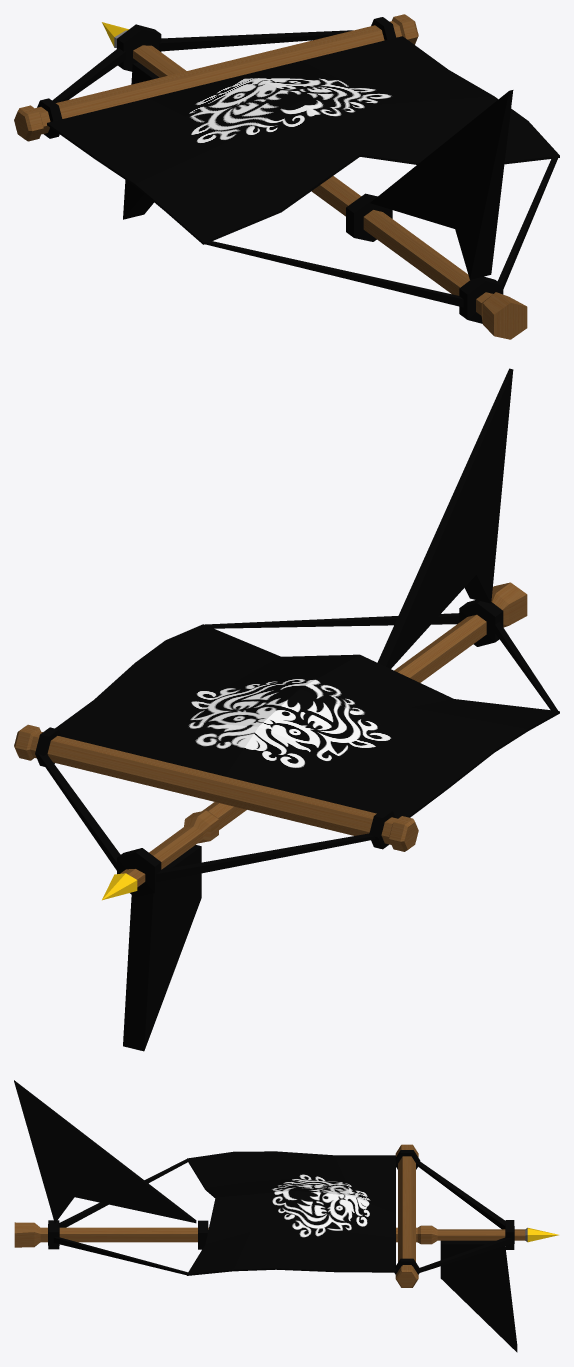
The model's file is sail_b_5.fbx.
3 views of the same model, one above another, from view 1: azimuth 30°, elevation 25°; view 2: azimuth 150°, elevation 25°; view 3: azimuth 270°, elevation 25° (orthographic). The views are drawn at different scales.
Visible parts, largest first — view 1: Cube.095; view 2: Cube.095; view 3: Cube.095.
Part boxes in pixels (x1,y1,x2,y2): Cube.095: [14, 14, 559, 339]; Cube.095: [14, 368, 559, 1051]; Cube.095: [14, 1080, 558, 1352].
Size of the model in its own units: 117 by 116 by 213.
